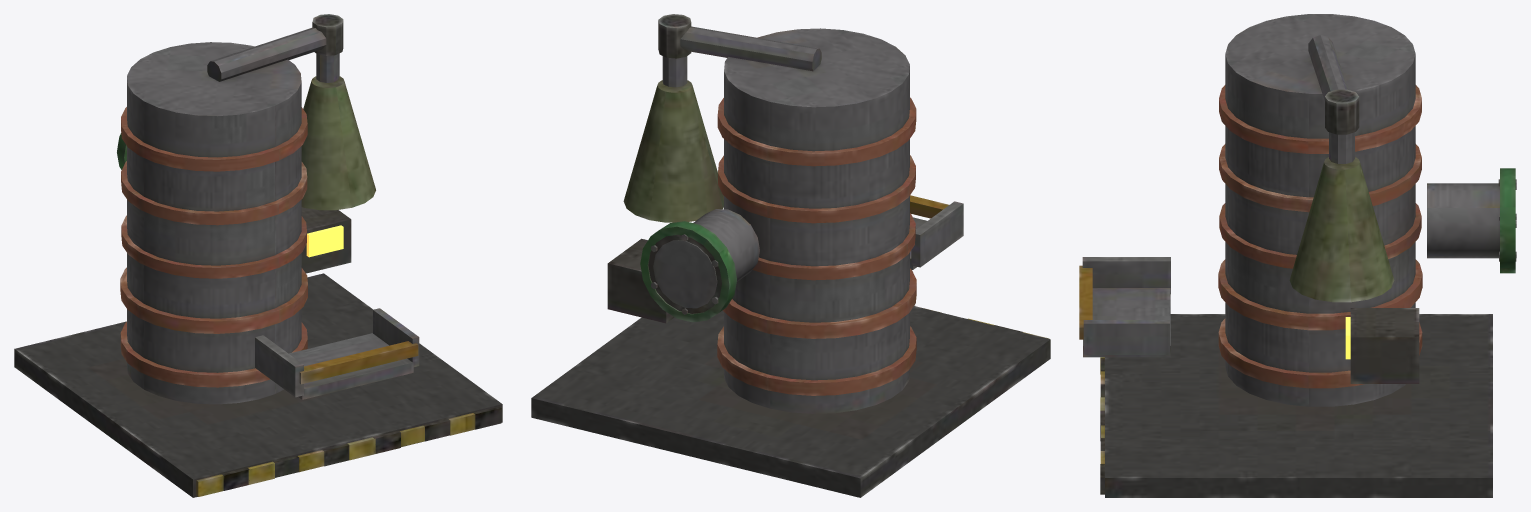
File: feCracker.glb
3 renders of one model, left to right at view 1: azimuth 30°, elevation 25°; view 2: azimuth 150°, elevation 25°; view 3: azimuth 270°, elevation 25°, orthographic. The views are drawn at different scales.
Parts seen in each view (by area): view 1: feCracker_Base; view 2: feCracker_Base; view 3: feCracker_Base.
Part boxes in pixels (x1=…): feCracker_Base: x1=14, y1=14, x2=502, y2=497; feCracker_Base: x1=531, y1=14, x2=1050, y2=497; feCracker_Base: x1=1079, y1=14, x2=1516, y2=497.
Bounding box in the file's own units: 0.9012 × 0.9405 × 1.02.
2 materials, 1 textured.
